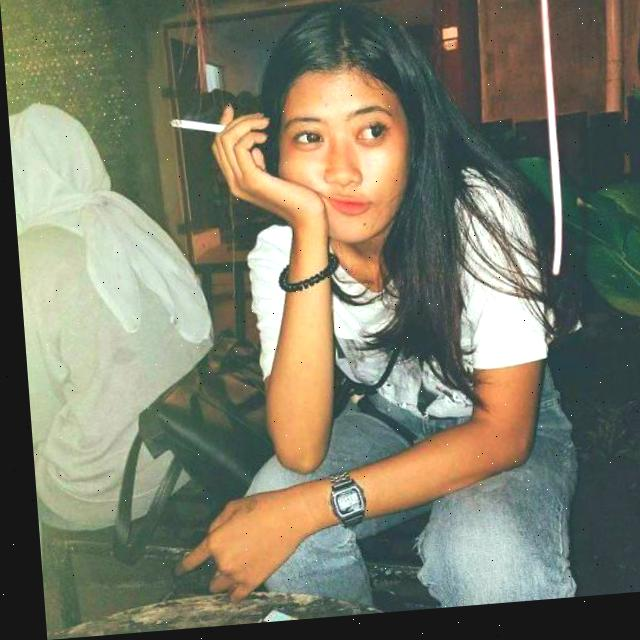cigarette: (168, 118, 225, 140)
